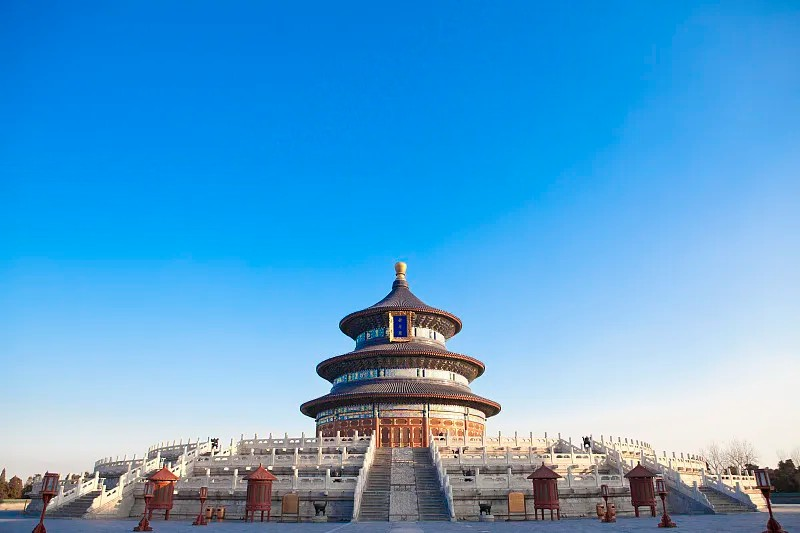Heaven: (300, 262, 501, 447)
